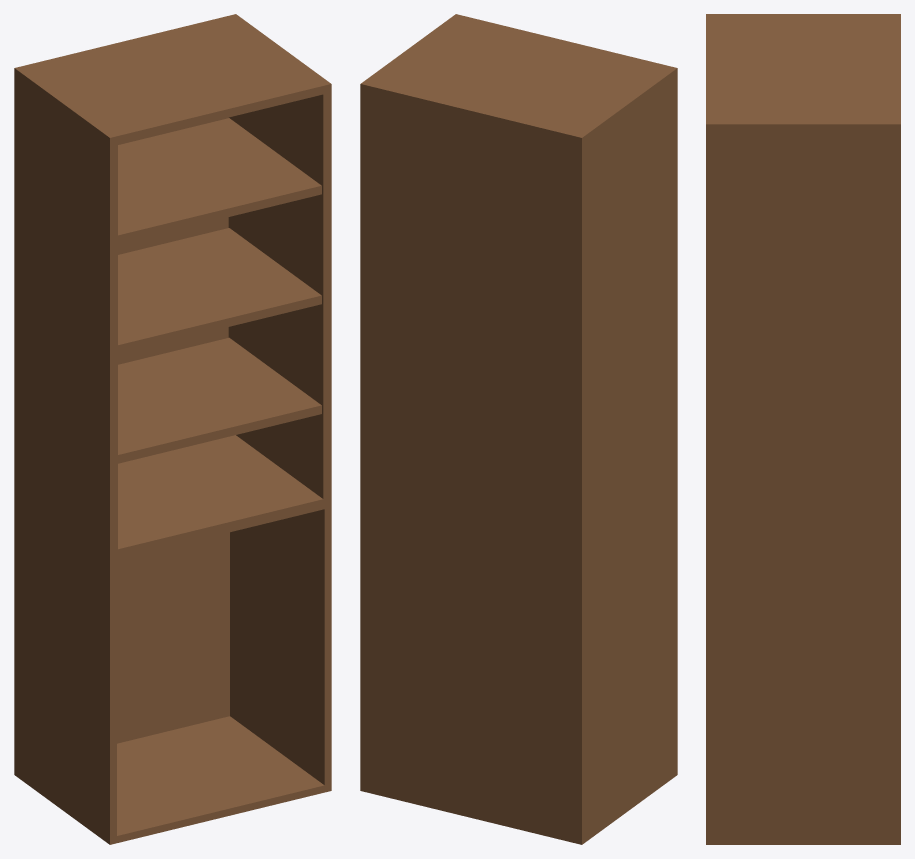
File: Cupboard_06_01.fbx
The picture shows the model from 3 angles, left to right: view 1: azimuth 30°, elevation 25°; view 2: azimuth 150°, elevation 25°; view 3: azimuth 270°, elevation 25°; orthographic projection.
Parts seen in each view (by area): view 1: Cupboard_06_01; view 2: Cupboard_06_01; view 3: Cupboard_06_01.
Part boxes in pixels (bbox=[...]): Cupboard_06_01: bbox=[14, 14, 331, 844]; Cupboard_06_01: bbox=[360, 14, 677, 844]; Cupboard_06_01: bbox=[706, 14, 900, 844].
Bounding box in the file's own units: 65.69 × 200 × 49.04.
